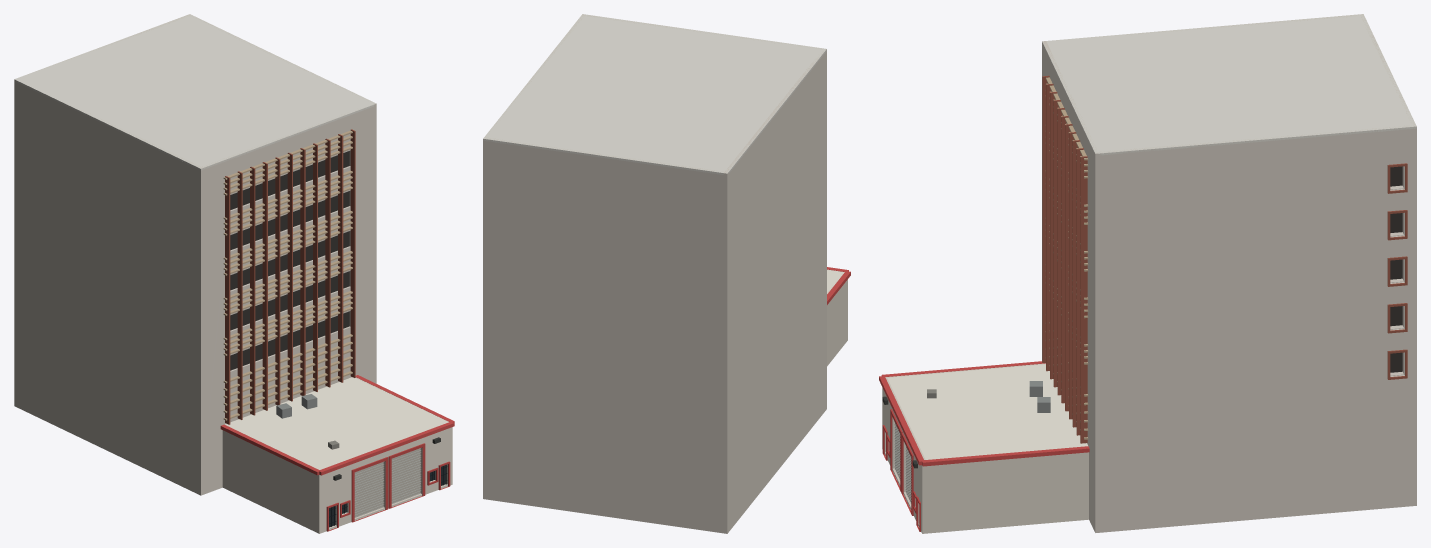
3 renders of one model, left to right at view 1: azimuth 30°, elevation 25°; view 2: azimuth 150°, elevation 25°; view 3: azimuth 270°, elevation 25°, orthographic. The views are drawn at different scales.
Visible parts, largest first — view 1: edificio; view 2: edificio; view 3: edificio.
Boxes of the visible parts, x1,y1,x2,y2 form: edificio: (14, 14, 454, 533); edificio: (483, 14, 850, 533); edificio: (879, 14, 1416, 533).
Size of the model in its own units: 17.67 by 22 by 28.27.
